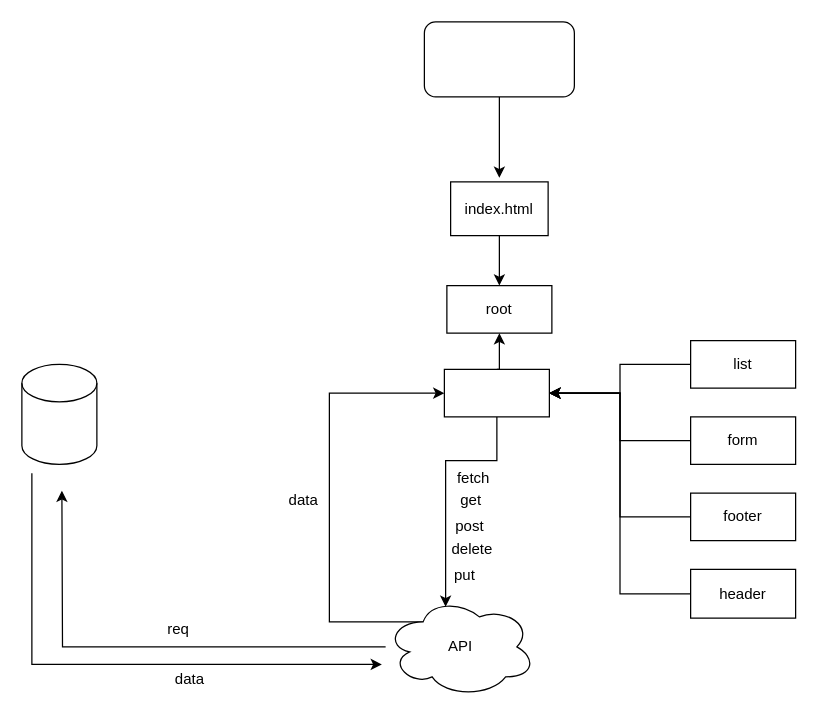
This 818x719 diagram has some shape labels left out. Each missing label, with the centre of its shape:
"client" goes at (x=498, y=59).
"DB" goes at (x=59, y=413).
"todo" goes at (x=496, y=392).
